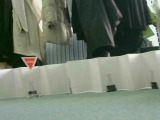stop: (20, 56, 38, 71)
